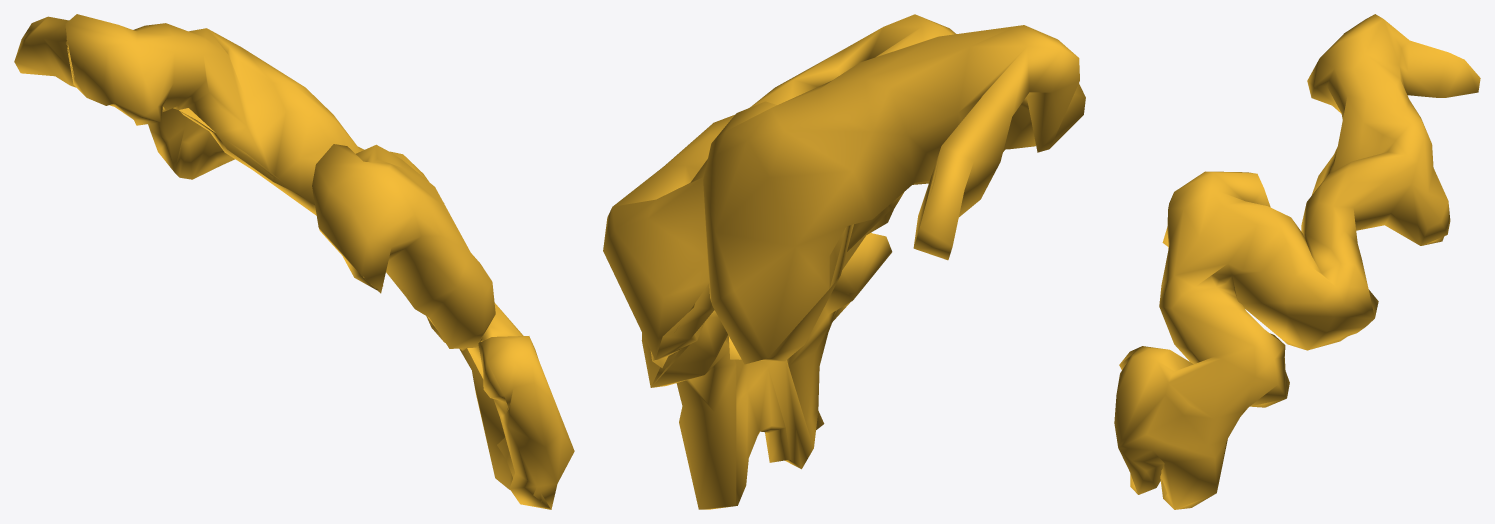
Rendered from nervoso-precentral-gyrus-l.glb.
3 views of the same model, side by side, from view 1: azimuth 30°, elevation 25°; view 2: azimuth 150°, elevation 25°; view 3: azimuth 270°, elevation 25° (orthographic). The views are drawn at different scales.
Visible parts, largest first — view 1: Precentral gyrus.l; view 2: Precentral gyrus.l; view 3: Precentral gyrus.l.
Boxes of the visible parts, <box> form: Precentral gyrus.l: <box>14,14,574,509</box>; Precentral gyrus.l: <box>603,14,1085,509</box>; Precentral gyrus.l: <box>1114,14,1480,509</box>.
Bounding box in the file's own units: 0.0486 × 0.0613 × 0.0556.
